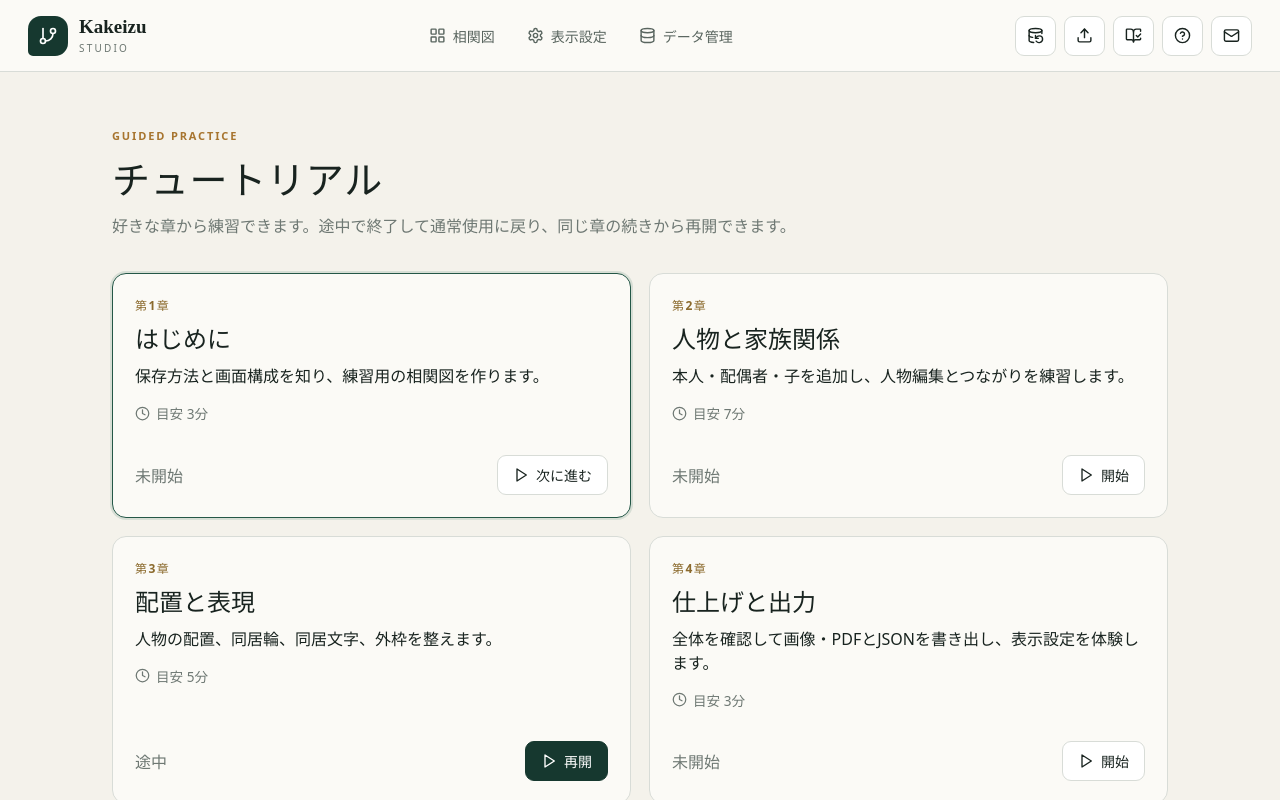
Test: 練習用相関図の読み込みエラー › {"status":409,"code":"DOCUMENT_TOO_NEW"} の場合は再作成せず進捗を保持する
The image size is (1280, 800).
Click the button "再開": [566, 761] box [525,741,608,781]
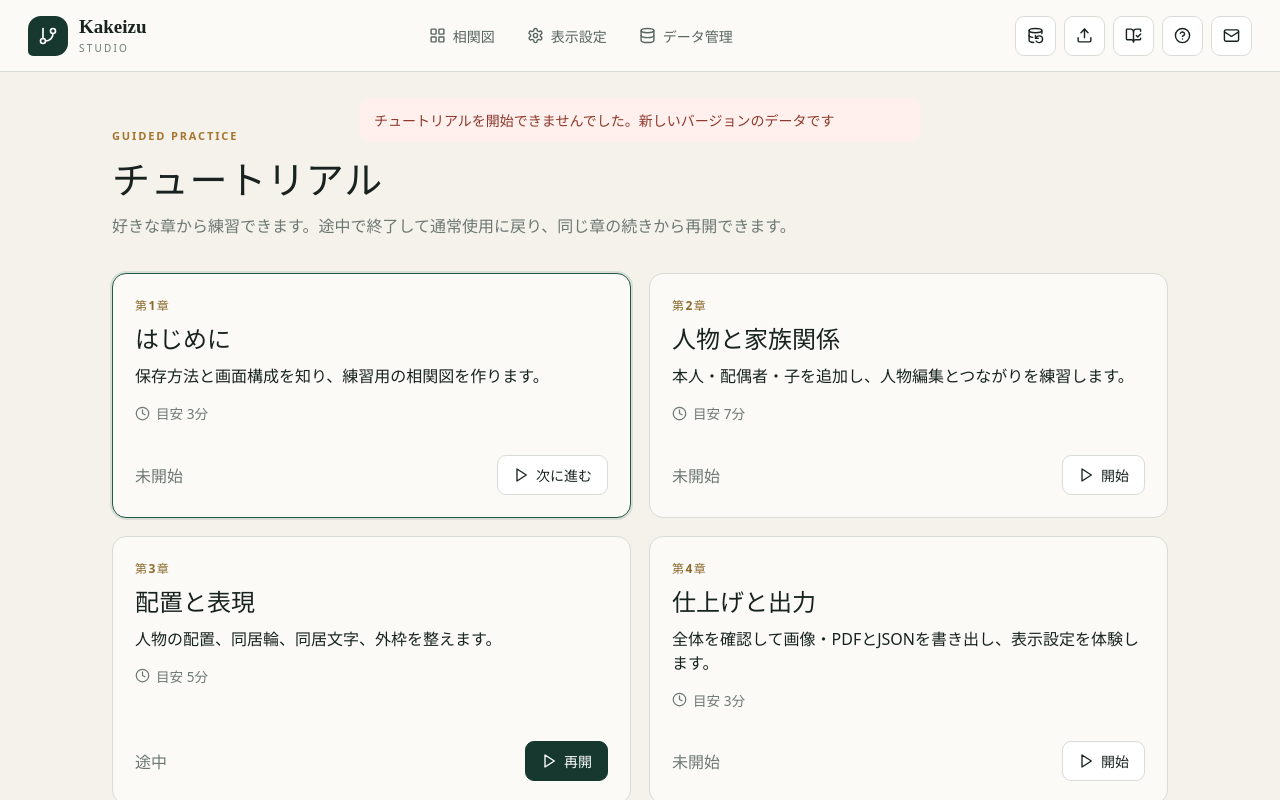
Now the text "チュートリアルを開始できませんでした。新しいバージョンのデータです" is shown, box [360,98,920,142]
